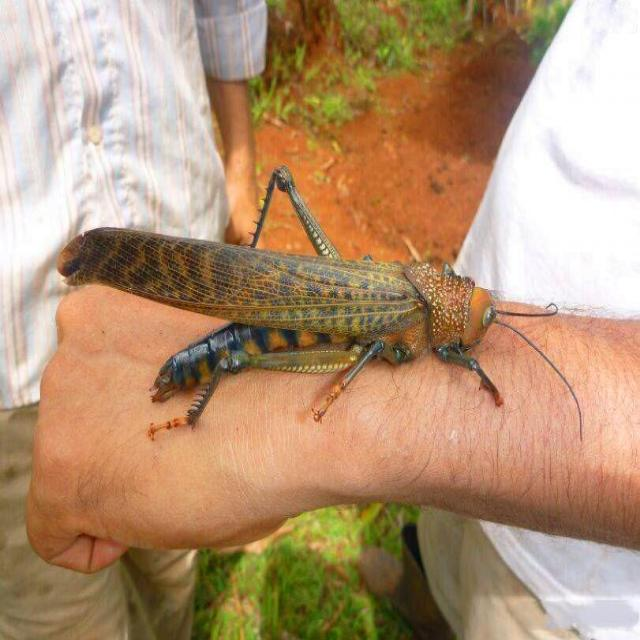ZhaMeng: (53, 156, 547, 466)
